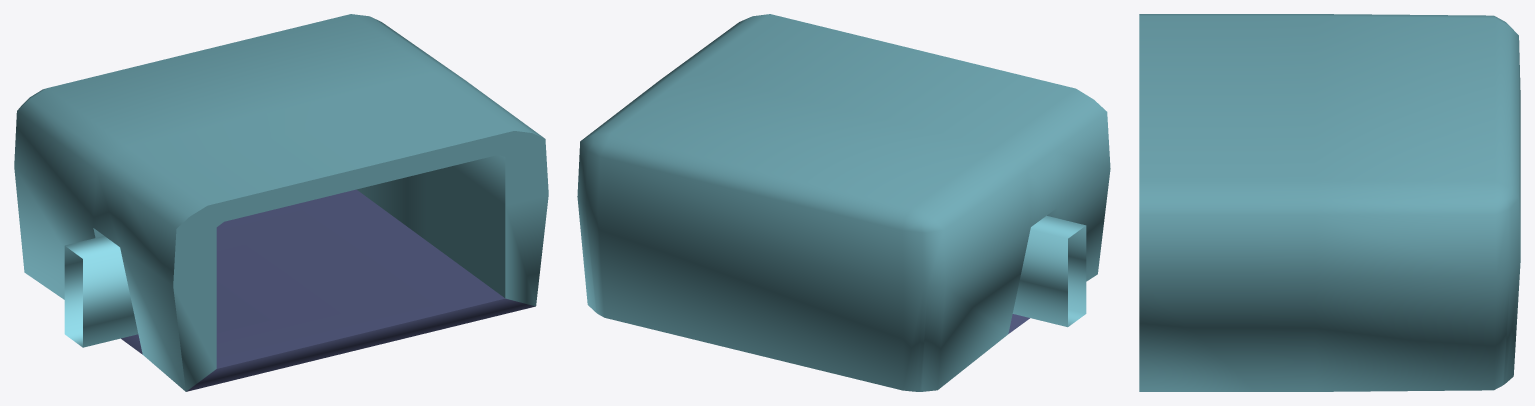
Rendered from ROOM.fbx.
The picture shows the model from 3 angles, left to right: view 1: azimuth 30°, elevation 25°; view 2: azimuth 150°, elevation 25°; view 3: azimuth 270°, elevation 25°; orthographic projection. The views are drawn at different scales.
Parts seen in each view (by area): view 1: Cube.006; view 2: Cube.006; view 3: Cube.006.
Boxes of the visible parts, <box> form: Cube.006: <box>14,14,548,391</box>; Cube.006: <box>577,14,1110,391</box>; Cube.006: <box>1139,14,1520,391</box>.
Bounding box in the file's own units: 5348 × 2315 × 3927.
